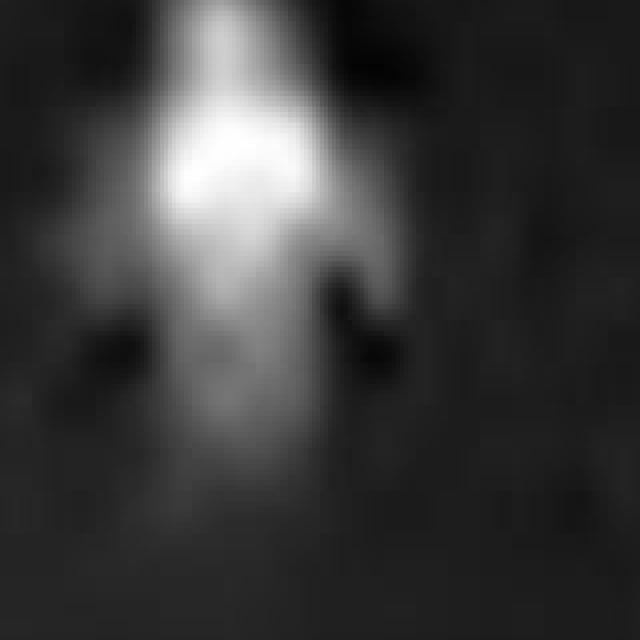person: (85, 1, 377, 460)
